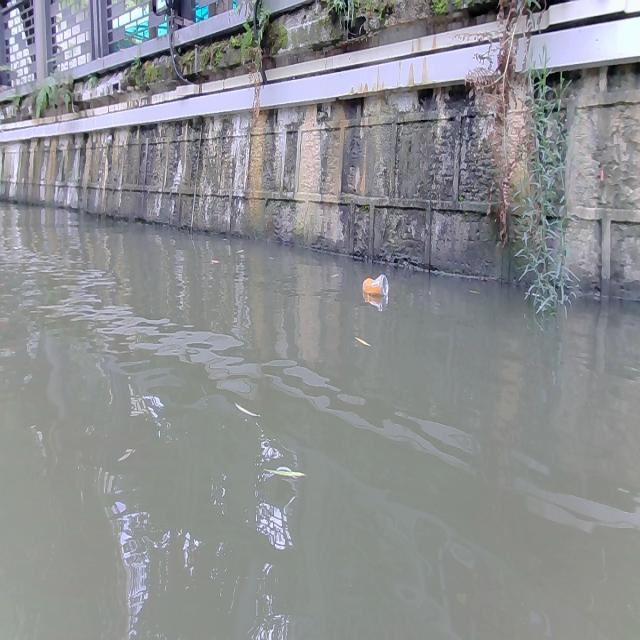bottle: (362, 272, 388, 294)
